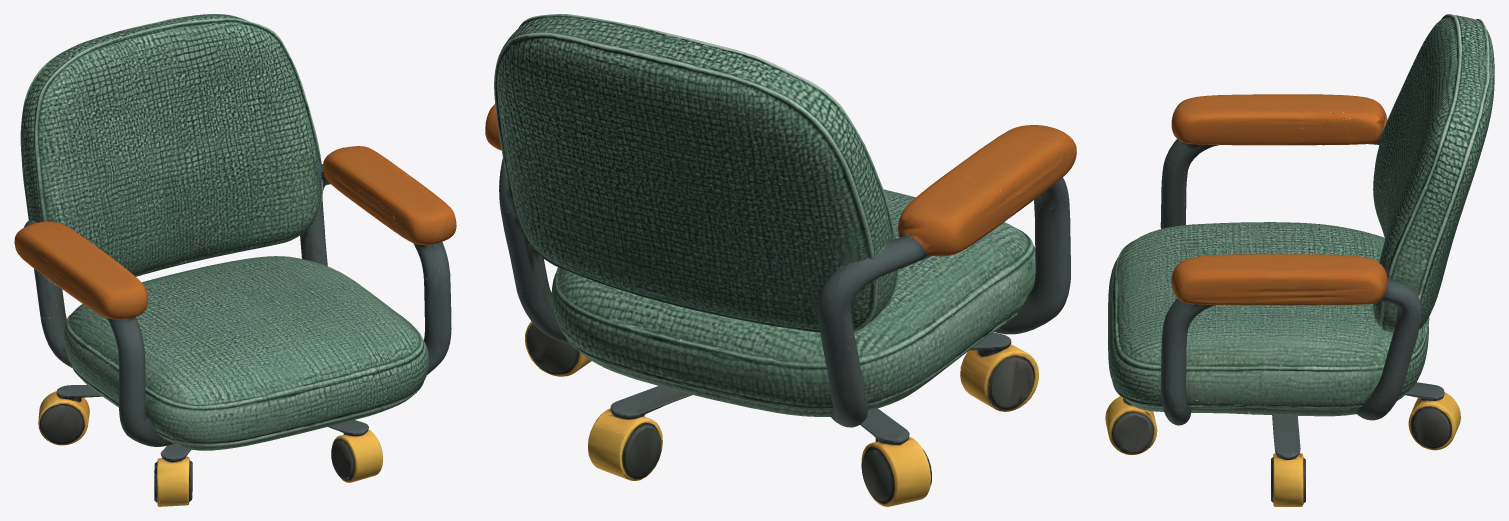
File: rolling-chair.parts.glb
3 views of the same model, side by side, from view 1: azimuth 30°, elevation 25°; view 2: azimuth 150°, elevation 25°; view 3: azimuth 270°, elevation 25° (orthographic). The views are drawn at different scales.
Parts seen in each view (by area): view 1: seat, base; view 2: seat, base; view 3: seat, base.
Boxes of the visible parts, <box> form: seat: <box>14,14,456,450</box>; base: <box>38,362,398,506</box>; seat: <box>485,14,1076,427</box>; base: <box>525,316,1038,506</box>; seat: <box>1108,14,1494,425</box>; base: <box>1105,361,1460,506</box>.
Size of the model in its own units: 0.85 by 0.79 by 0.75.
Materials: 1 (1 with a texture image).
